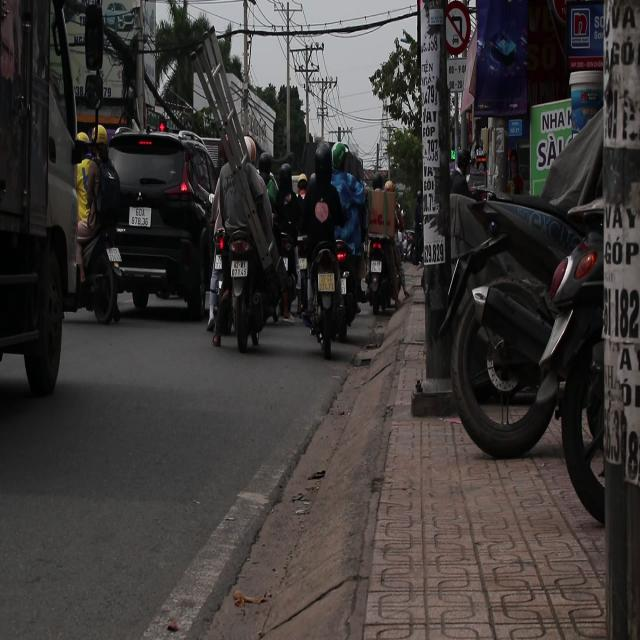car: (87, 125, 218, 313)
motorbike: (208, 132, 281, 351), (299, 171, 361, 357), (81, 124, 127, 320), (358, 191, 404, 356)
